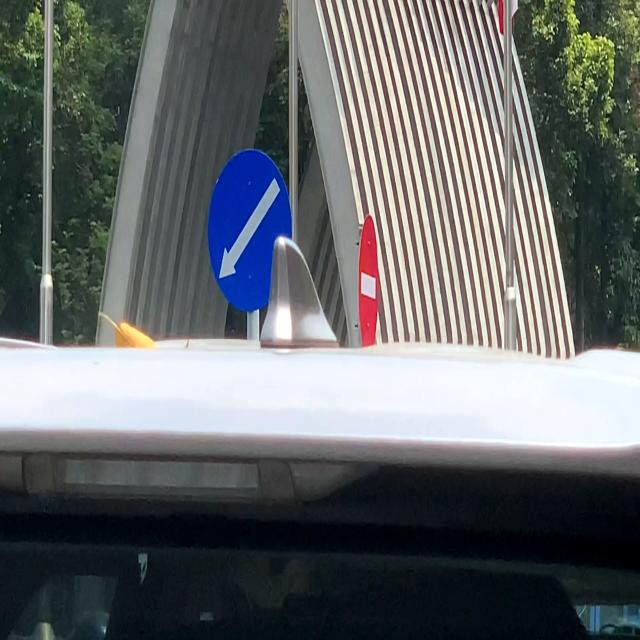R.302b: (207, 148, 292, 311)
